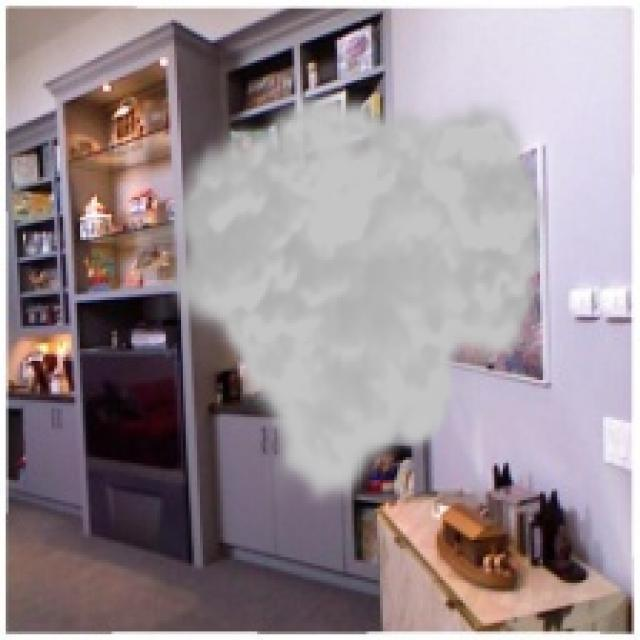Smoke: (157, 86, 554, 512)
